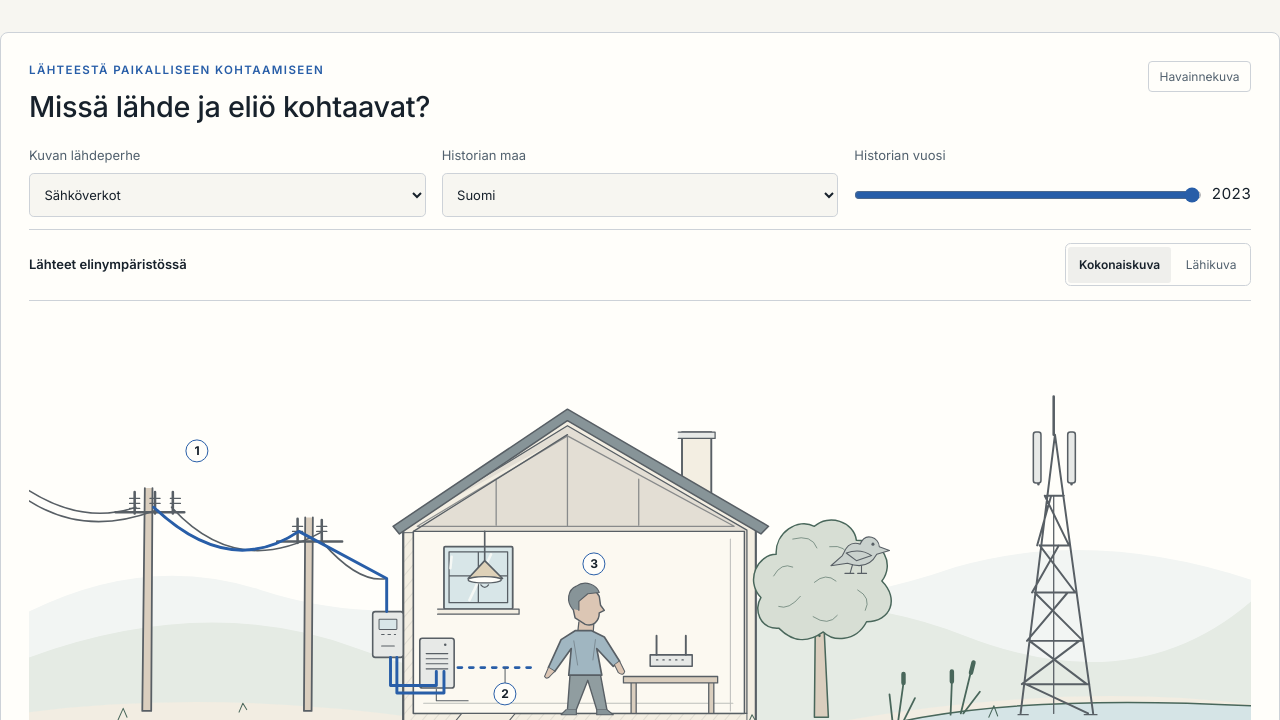
Scenario: historical source illustration › allows independent history inspection and retains the record's provenance
Select "Digitaalinen 2G" in the dropdown labelled "Kuvan lähdeperhe": (227, 195) [29,173,426,217]
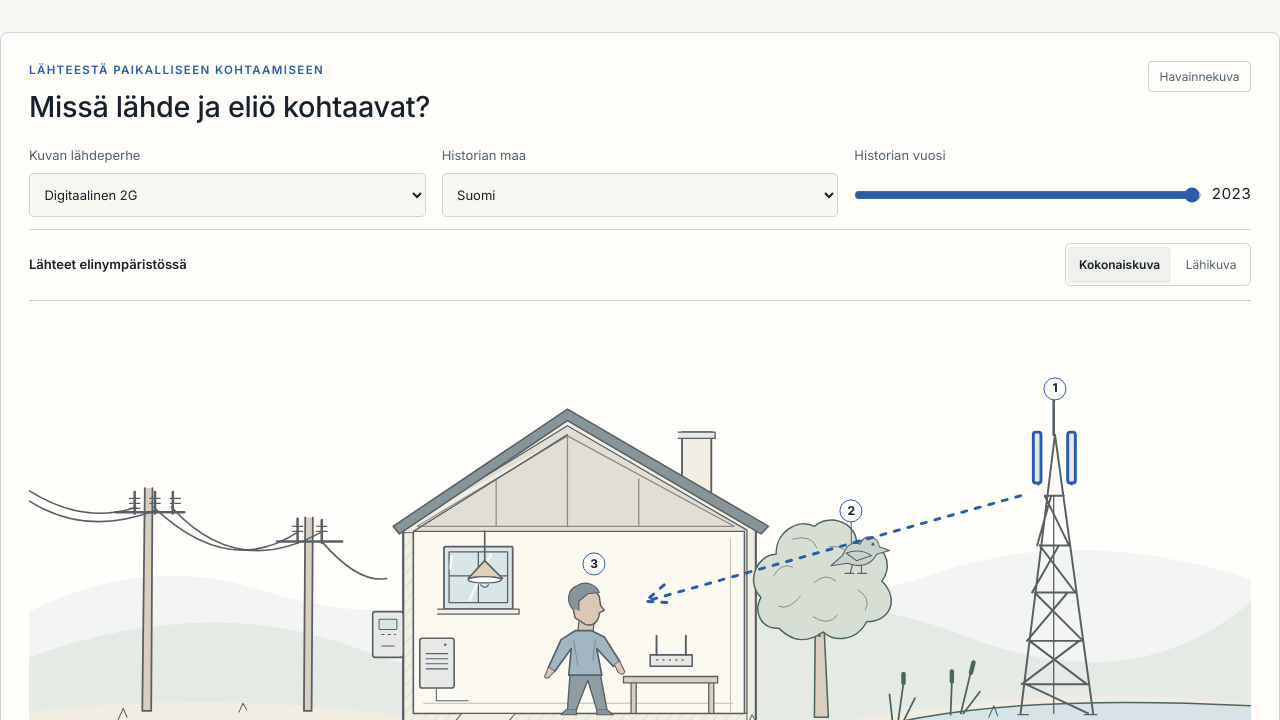
Set the slider labelled "Historian vuosi" to "1991": (1118, 195) [854,187,1202,203]
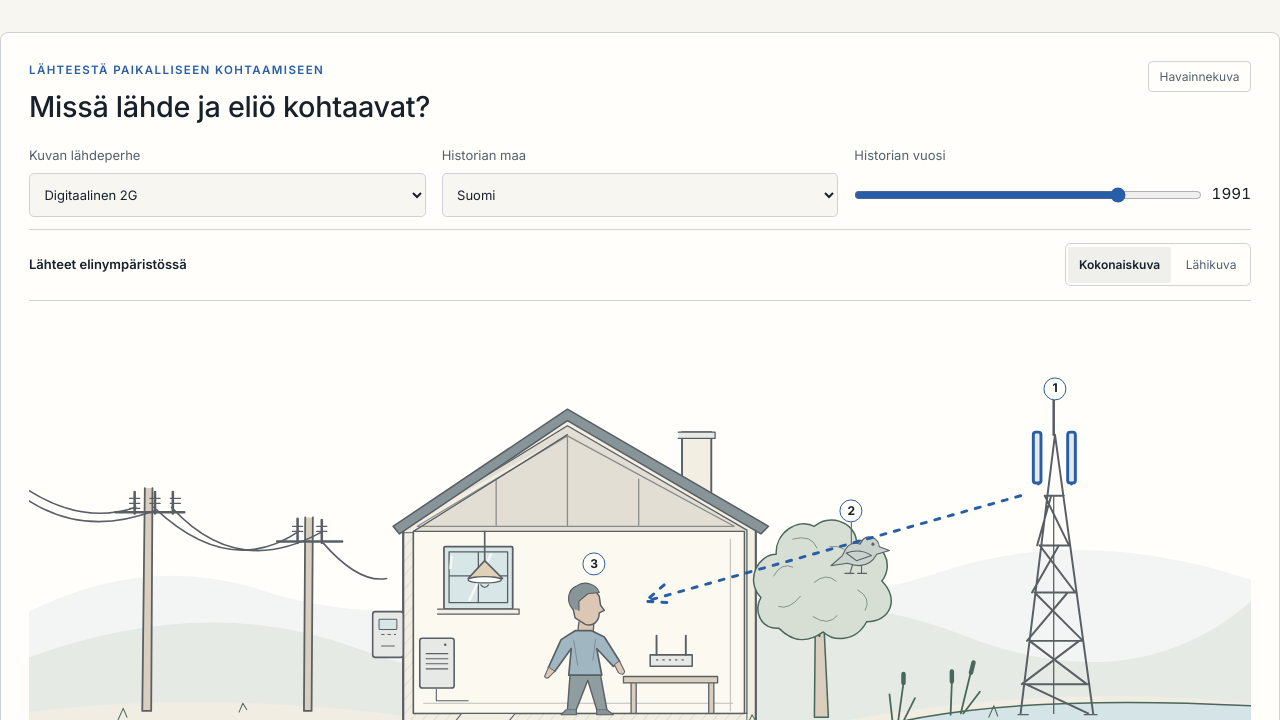
Select "Japani" in the dropdown labelled "Historian maa": (640, 195) [442,173,838,217]
(page scrolled)
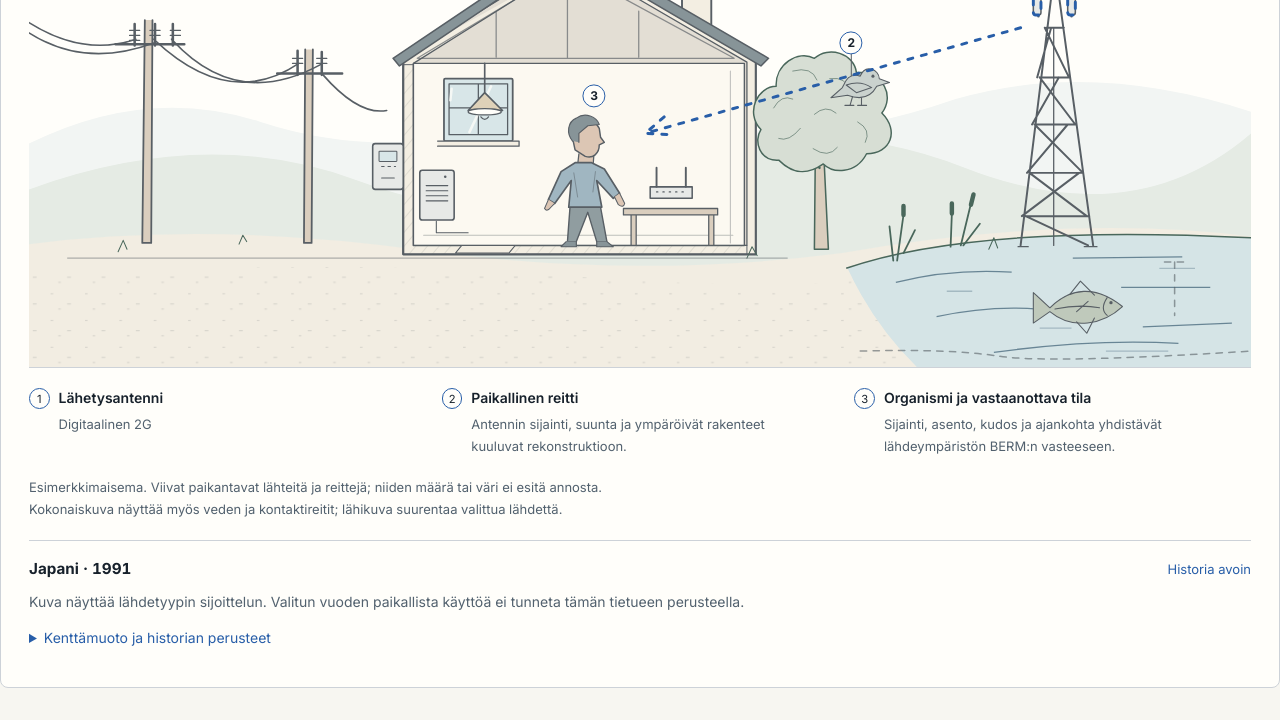
Expected: the text "Japani · 1991" is shown, [29,557,131,582]
